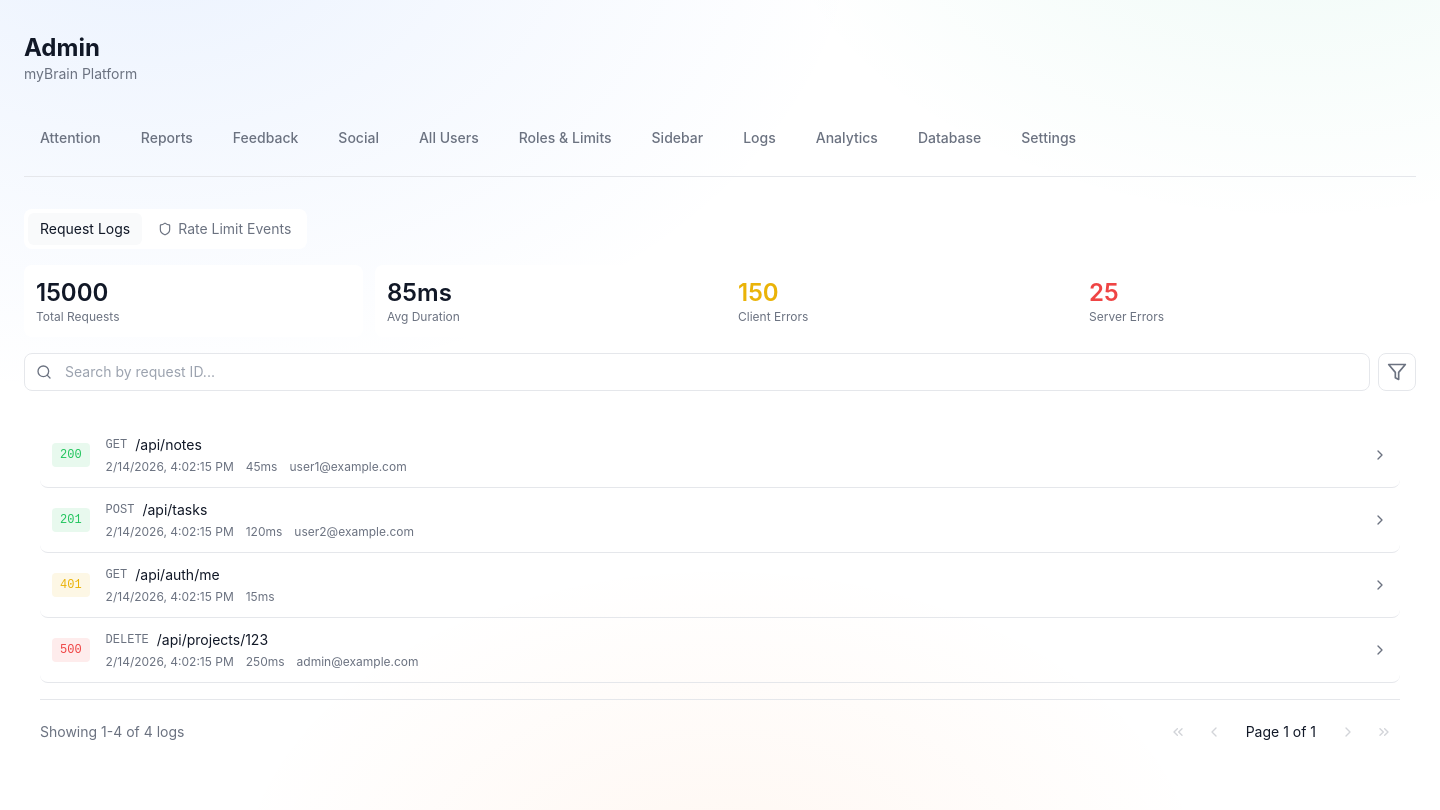
Test: AdminLogsPage › Log Detail Drawer › opens drawer when clicking a log row
The image size is (1440, 810).
expect the text "/api/notes" is shown: met, box [135,435,202,455]
# Click on a log row
Click the text "/api/notes": (720, 456) [40,423,1400,488]
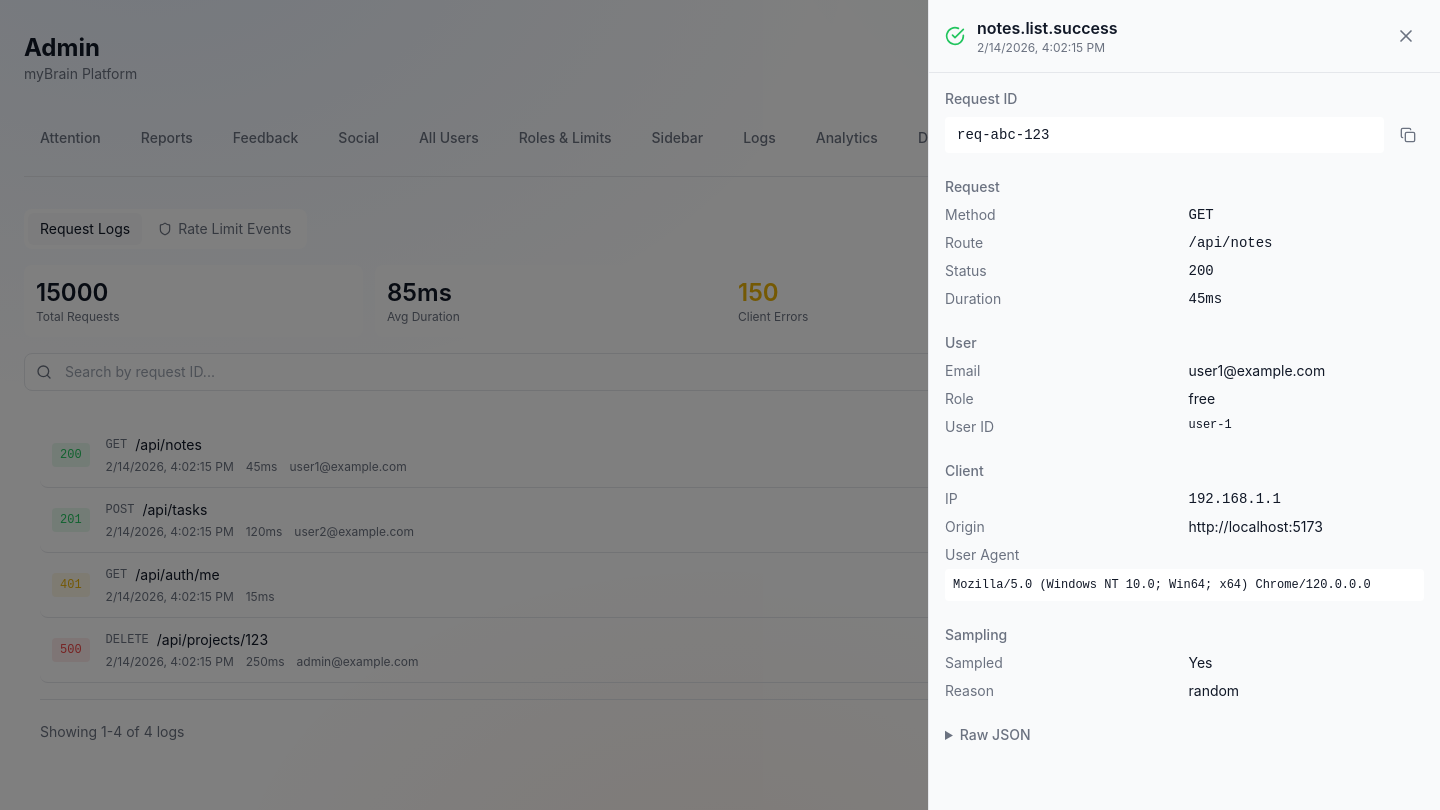
expect the heading "notes.list.success" is shown: met, box [977,16,1118,40]
expect the heading "Request ID" is shown: met, box [945,90,1017,107]
